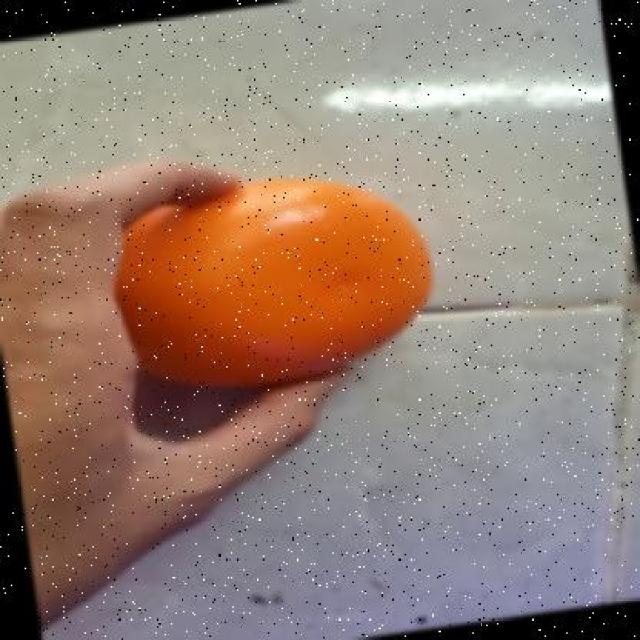Orange: (112, 174, 434, 389)
